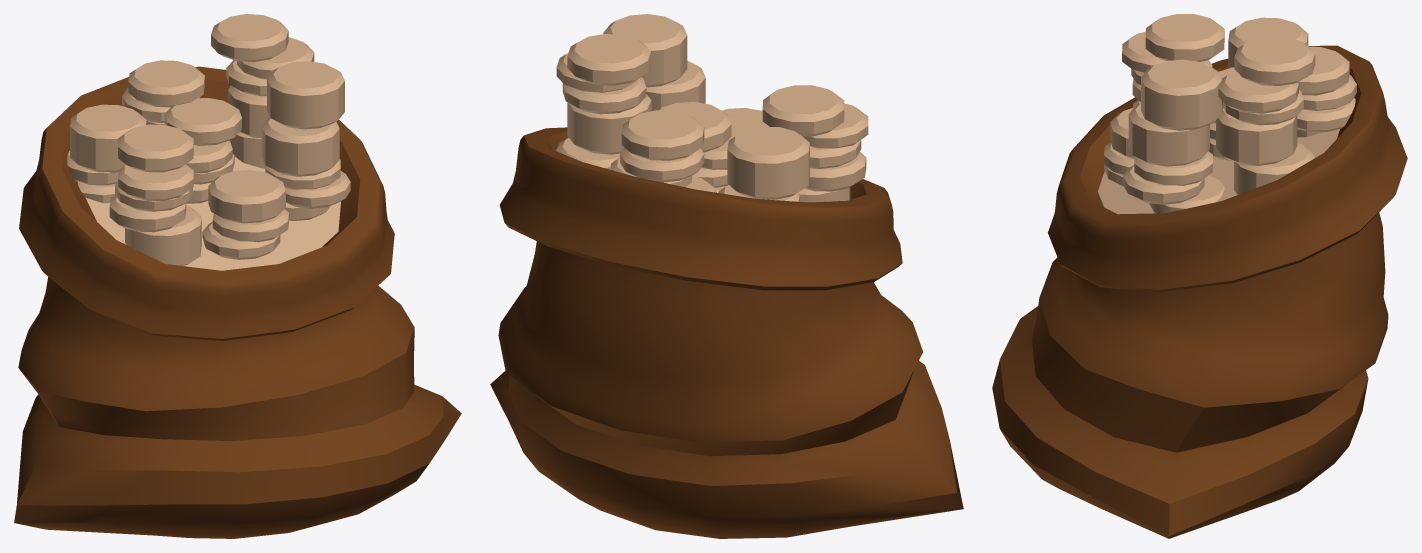
File: Prop_GoldBag.glb
3 views of the same model, side by side, from view 1: azimuth 30°, elevation 25°; view 2: azimuth 150°, elevation 25°; view 3: azimuth 270°, elevation 25° (orthographic). The views are drawn at different scales.
Visible parts, largest first — view 1: Prop_GoldBag; view 2: Prop_GoldBag; view 3: Prop_GoldBag.
Boxes of the visible parts, x1,y1,x2,y2 form: Prop_GoldBag: (14, 14, 461, 538); Prop_GoldBag: (490, 14, 963, 538); Prop_GoldBag: (992, 14, 1407, 538).
Size of the model in its own units: 0.6661 by 0.6153 by 0.5187.
1 material, 1 textured.
